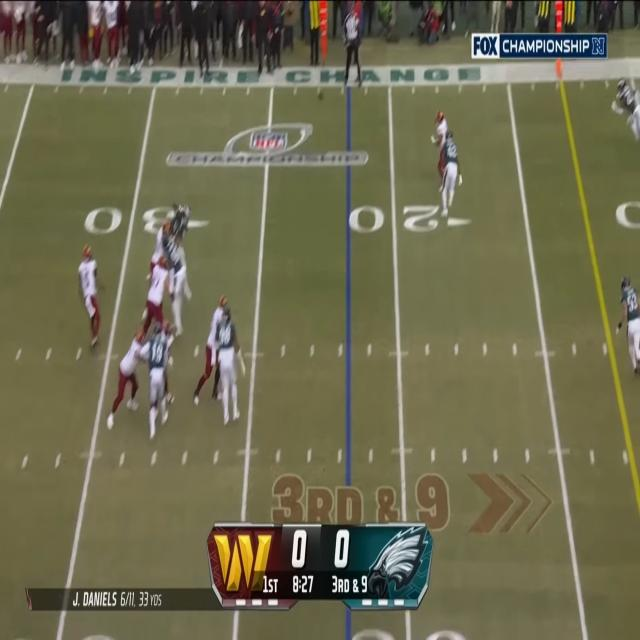Ball: (317, 88, 324, 102)
